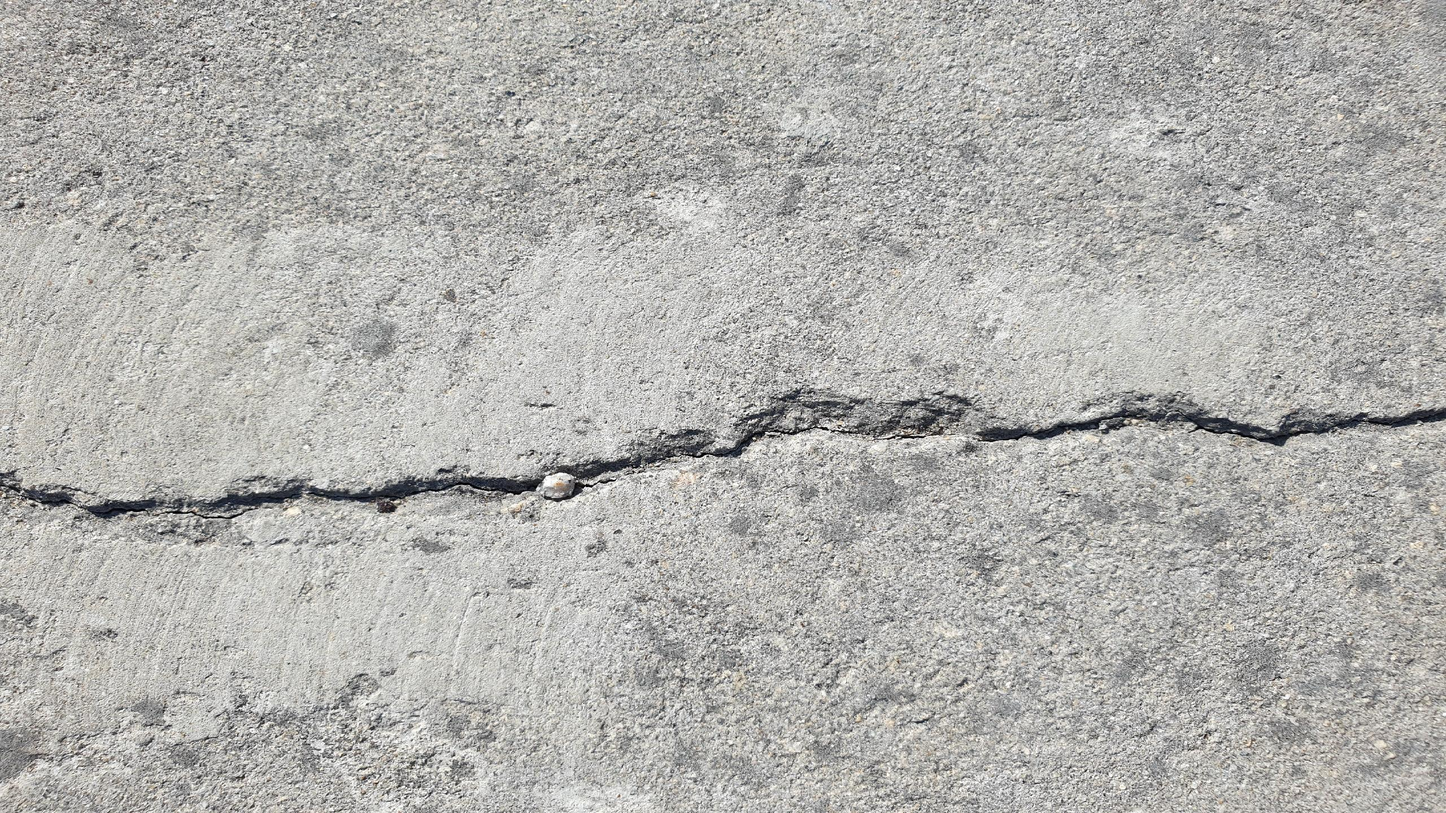crack: (4, 421, 952, 520), (972, 406, 1444, 447)
